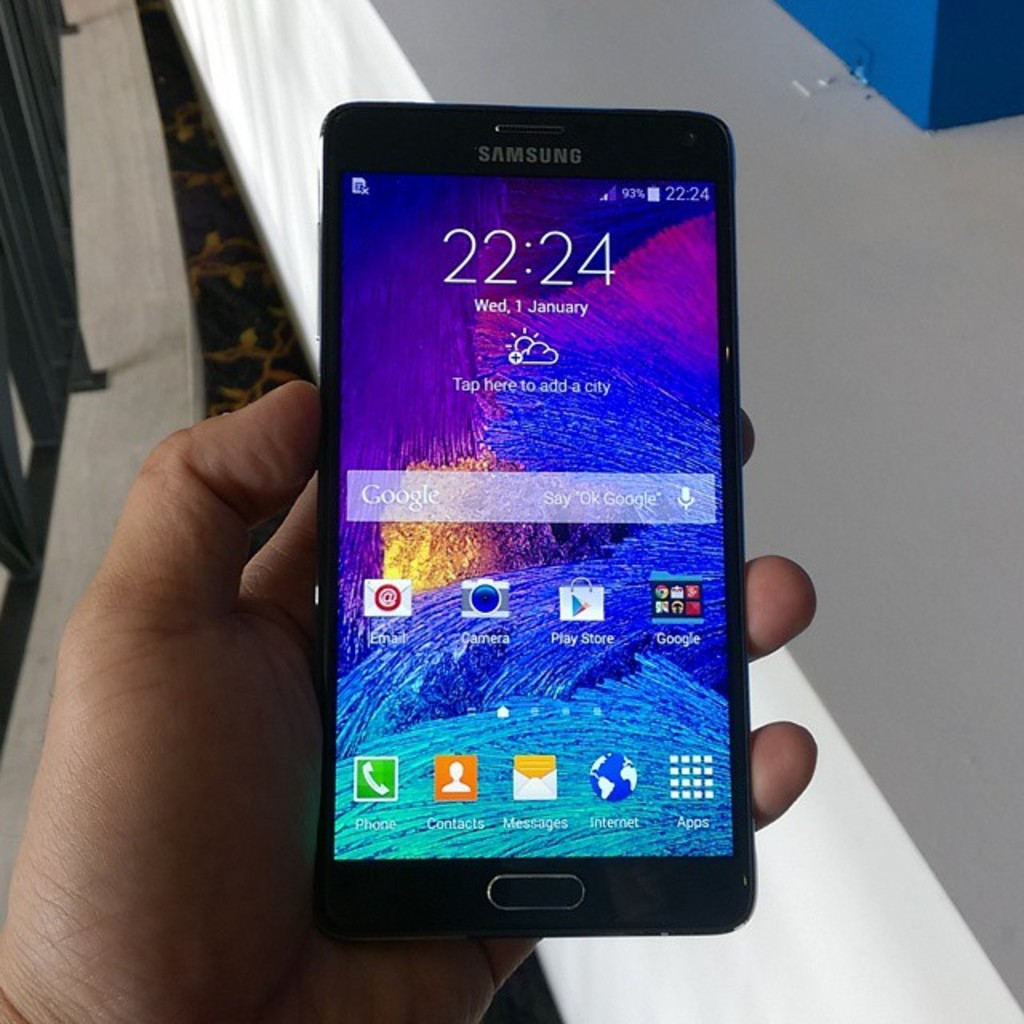Mobile-phone: (322, 97, 757, 944)
